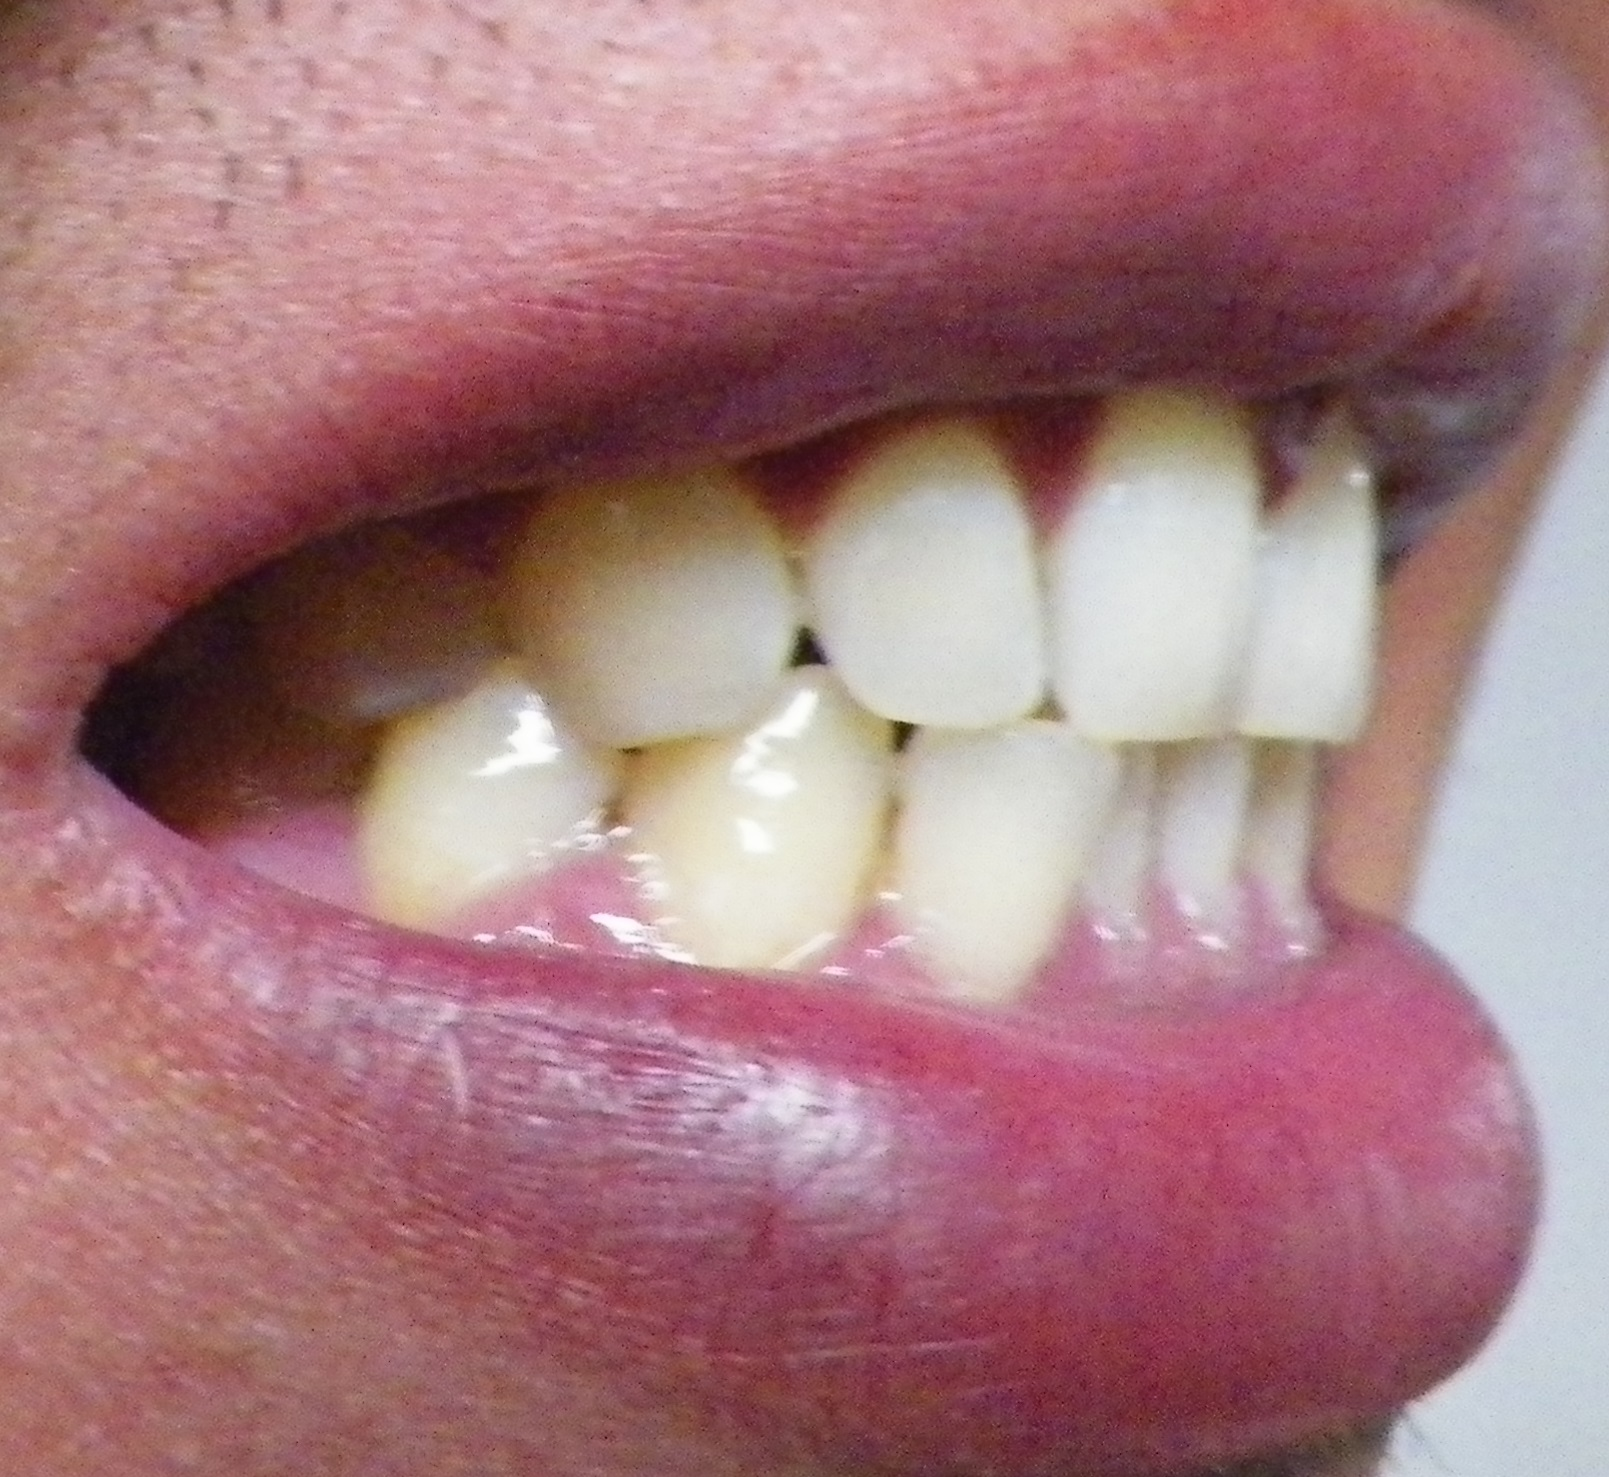boca: (306, 439, 1385, 1002)
